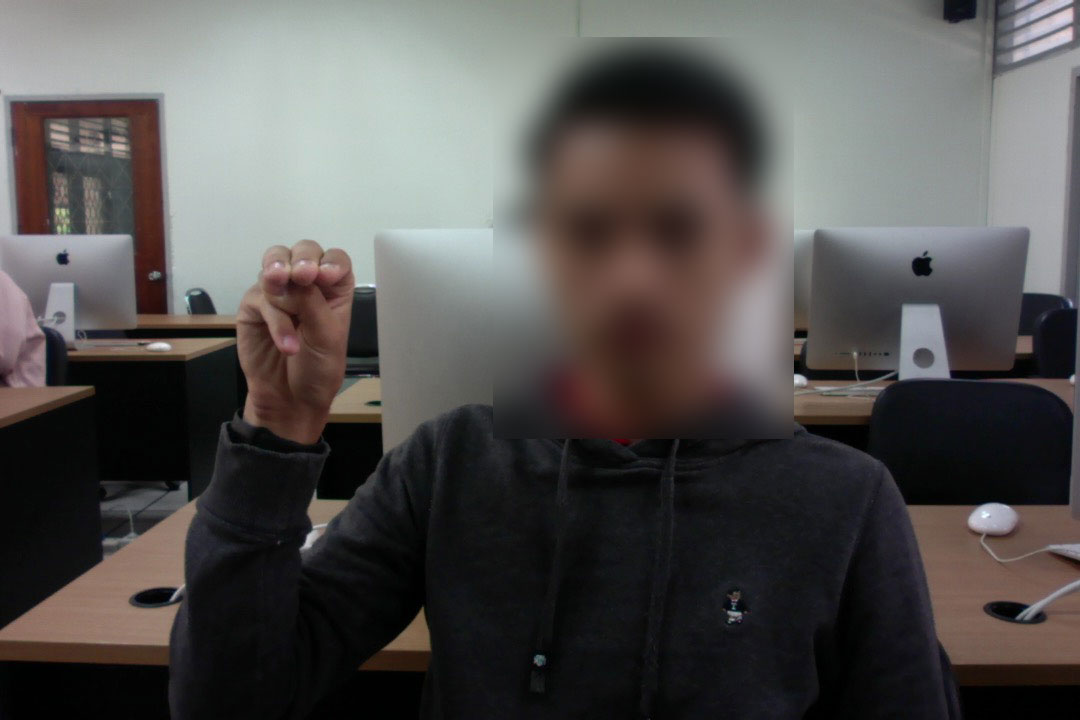mor: (234, 228, 358, 427)
